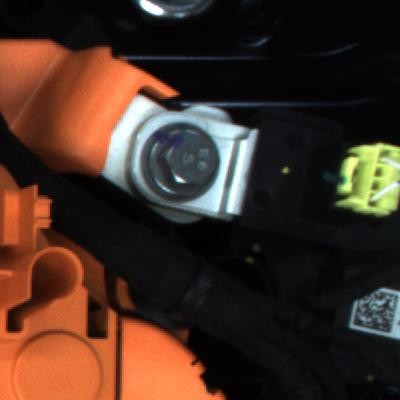nut_b: (140, 114, 228, 209)
